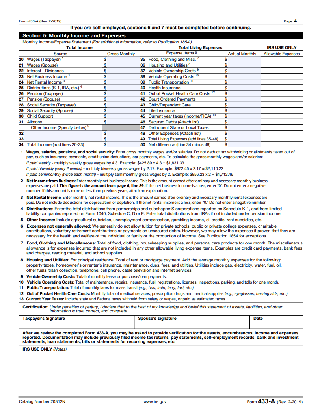textbox: (17, 314, 136, 331), (133, 314, 252, 331), (248, 314, 305, 331), (17, 129, 104, 136), (16, 135, 103, 142), (259, 134, 304, 143), (260, 122, 305, 131), (260, 111, 305, 120), (260, 105, 305, 114), (260, 100, 305, 109), (261, 78, 306, 87), (261, 72, 306, 81), (261, 67, 306, 76), (261, 60, 306, 69), (259, 140, 304, 148), (259, 129, 304, 137), (260, 118, 305, 126), (260, 95, 305, 103), (260, 89, 305, 97), (260, 84, 305, 92), (261, 55, 306, 63), (223, 54, 262, 63), (222, 61, 263, 69), (221, 77, 262, 85), (222, 106, 263, 114), (221, 123, 262, 131), (221, 129, 262, 137), (101, 55, 141, 63), (101, 61, 141, 69), (101, 66, 141, 74), (101, 72, 141, 80), (101, 78, 141, 86), (101, 95, 141, 103), (101, 100, 141, 108), (101, 106, 141, 114), (101, 140, 141, 148), (222, 67, 262, 75), (222, 72, 262, 80), (222, 95, 262, 103), (222, 112, 262, 120), (222, 135, 262, 143), (222, 140, 262, 148), (101, 123, 140, 131), (101, 129, 140, 137), (221, 84, 262, 91), (221, 90, 262, 97), (101, 84, 141, 91), (101, 90, 141, 97), (101, 135, 141, 142), (222, 101, 262, 108), (222, 118, 262, 125), (101, 112, 140, 119), (101, 118, 140, 125)
